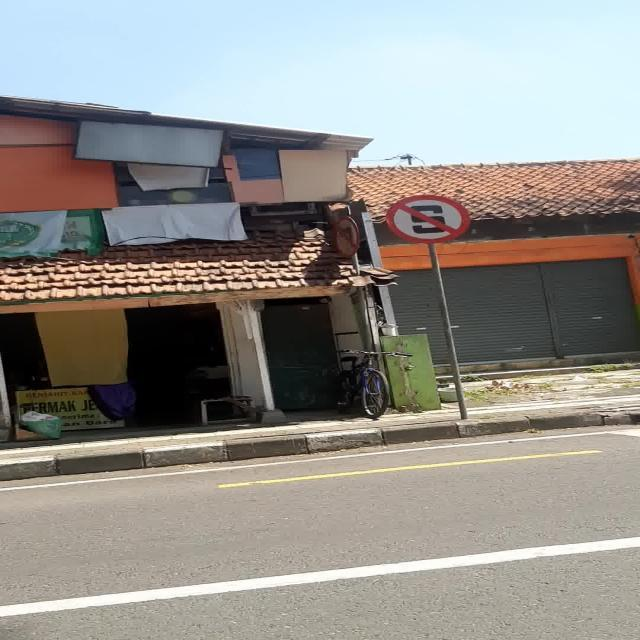Dilarang Berhenti: (388, 195, 470, 243)
